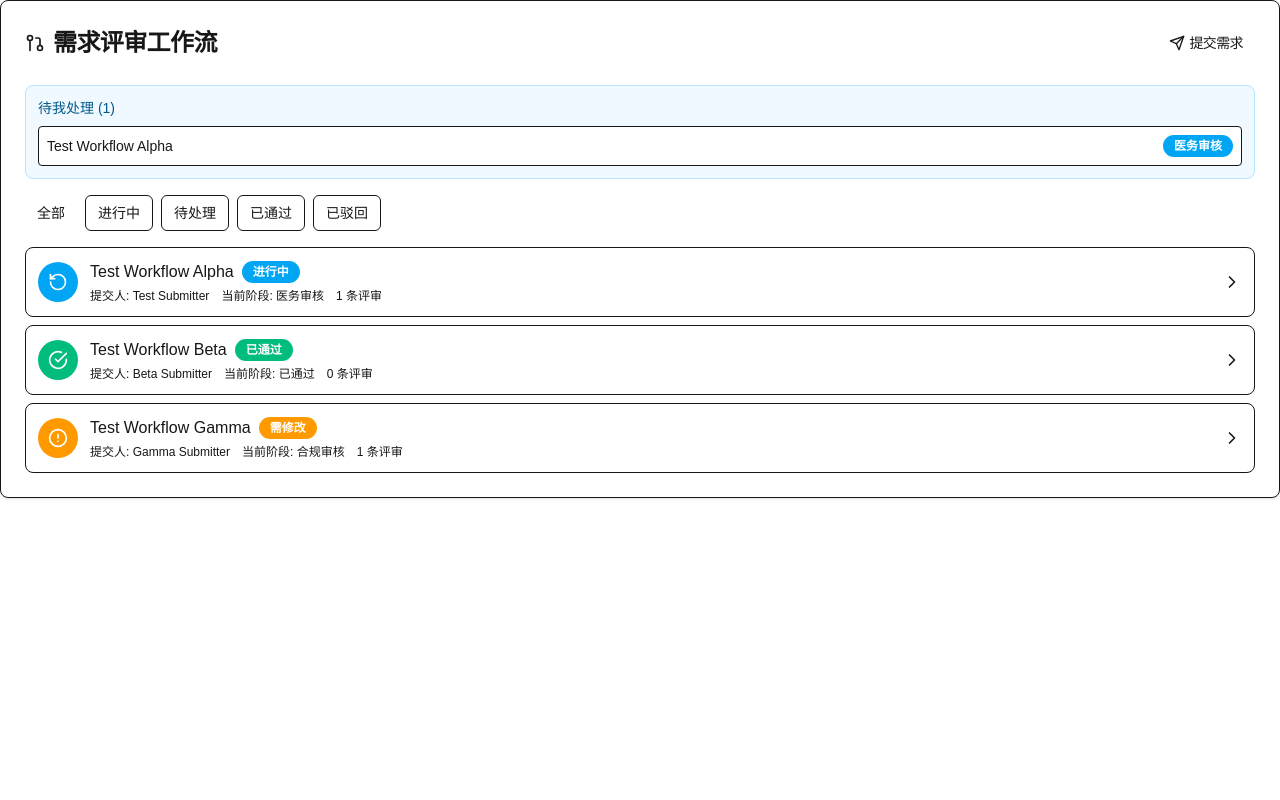
Test: ReviewWorkflowList › does not show action buttons for approved workflow
What coordinates should you click on to do the following:
click the button "Test Workflow Beta 已通过 提交人: Beta Submitter 当前阶段: 已通过 0 条评审"
I would click on:
 (58, 360)
Its box is [25,325,1255,395].
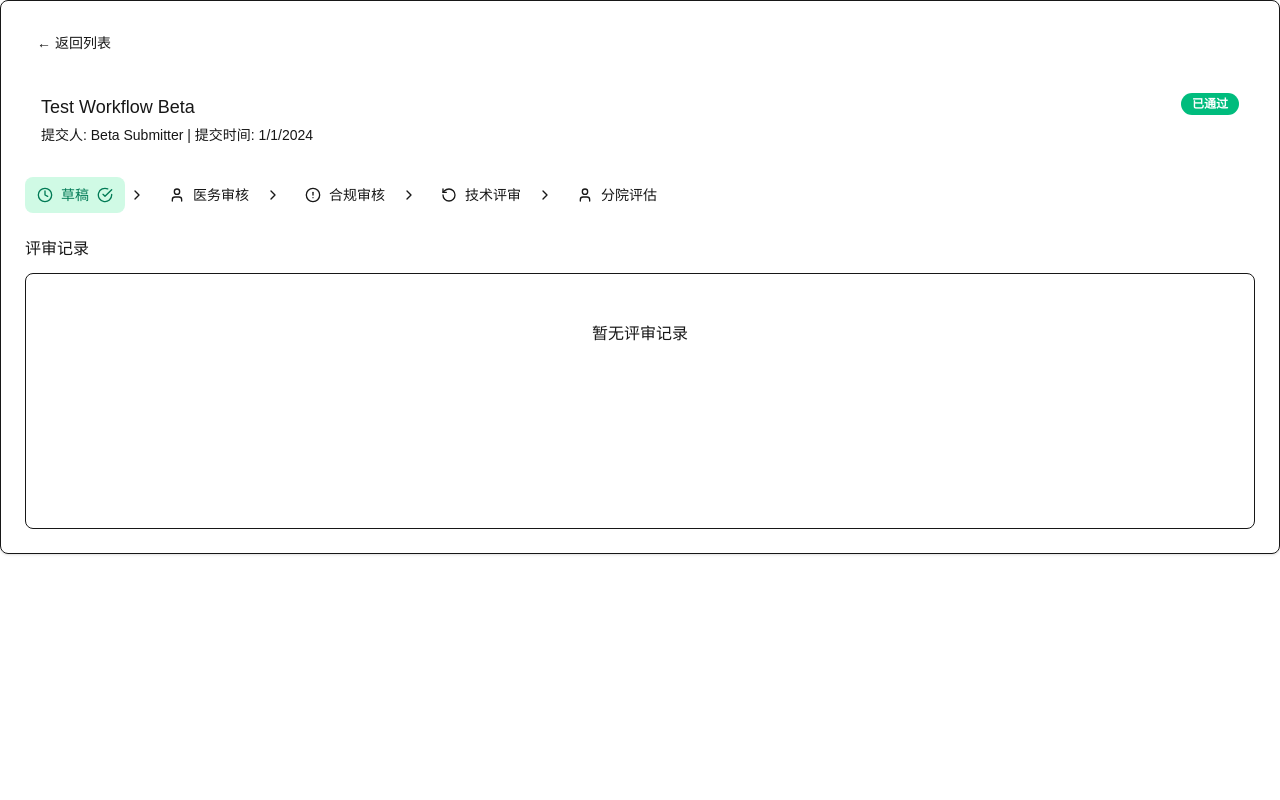
Expected: the button "驳回" is gone
